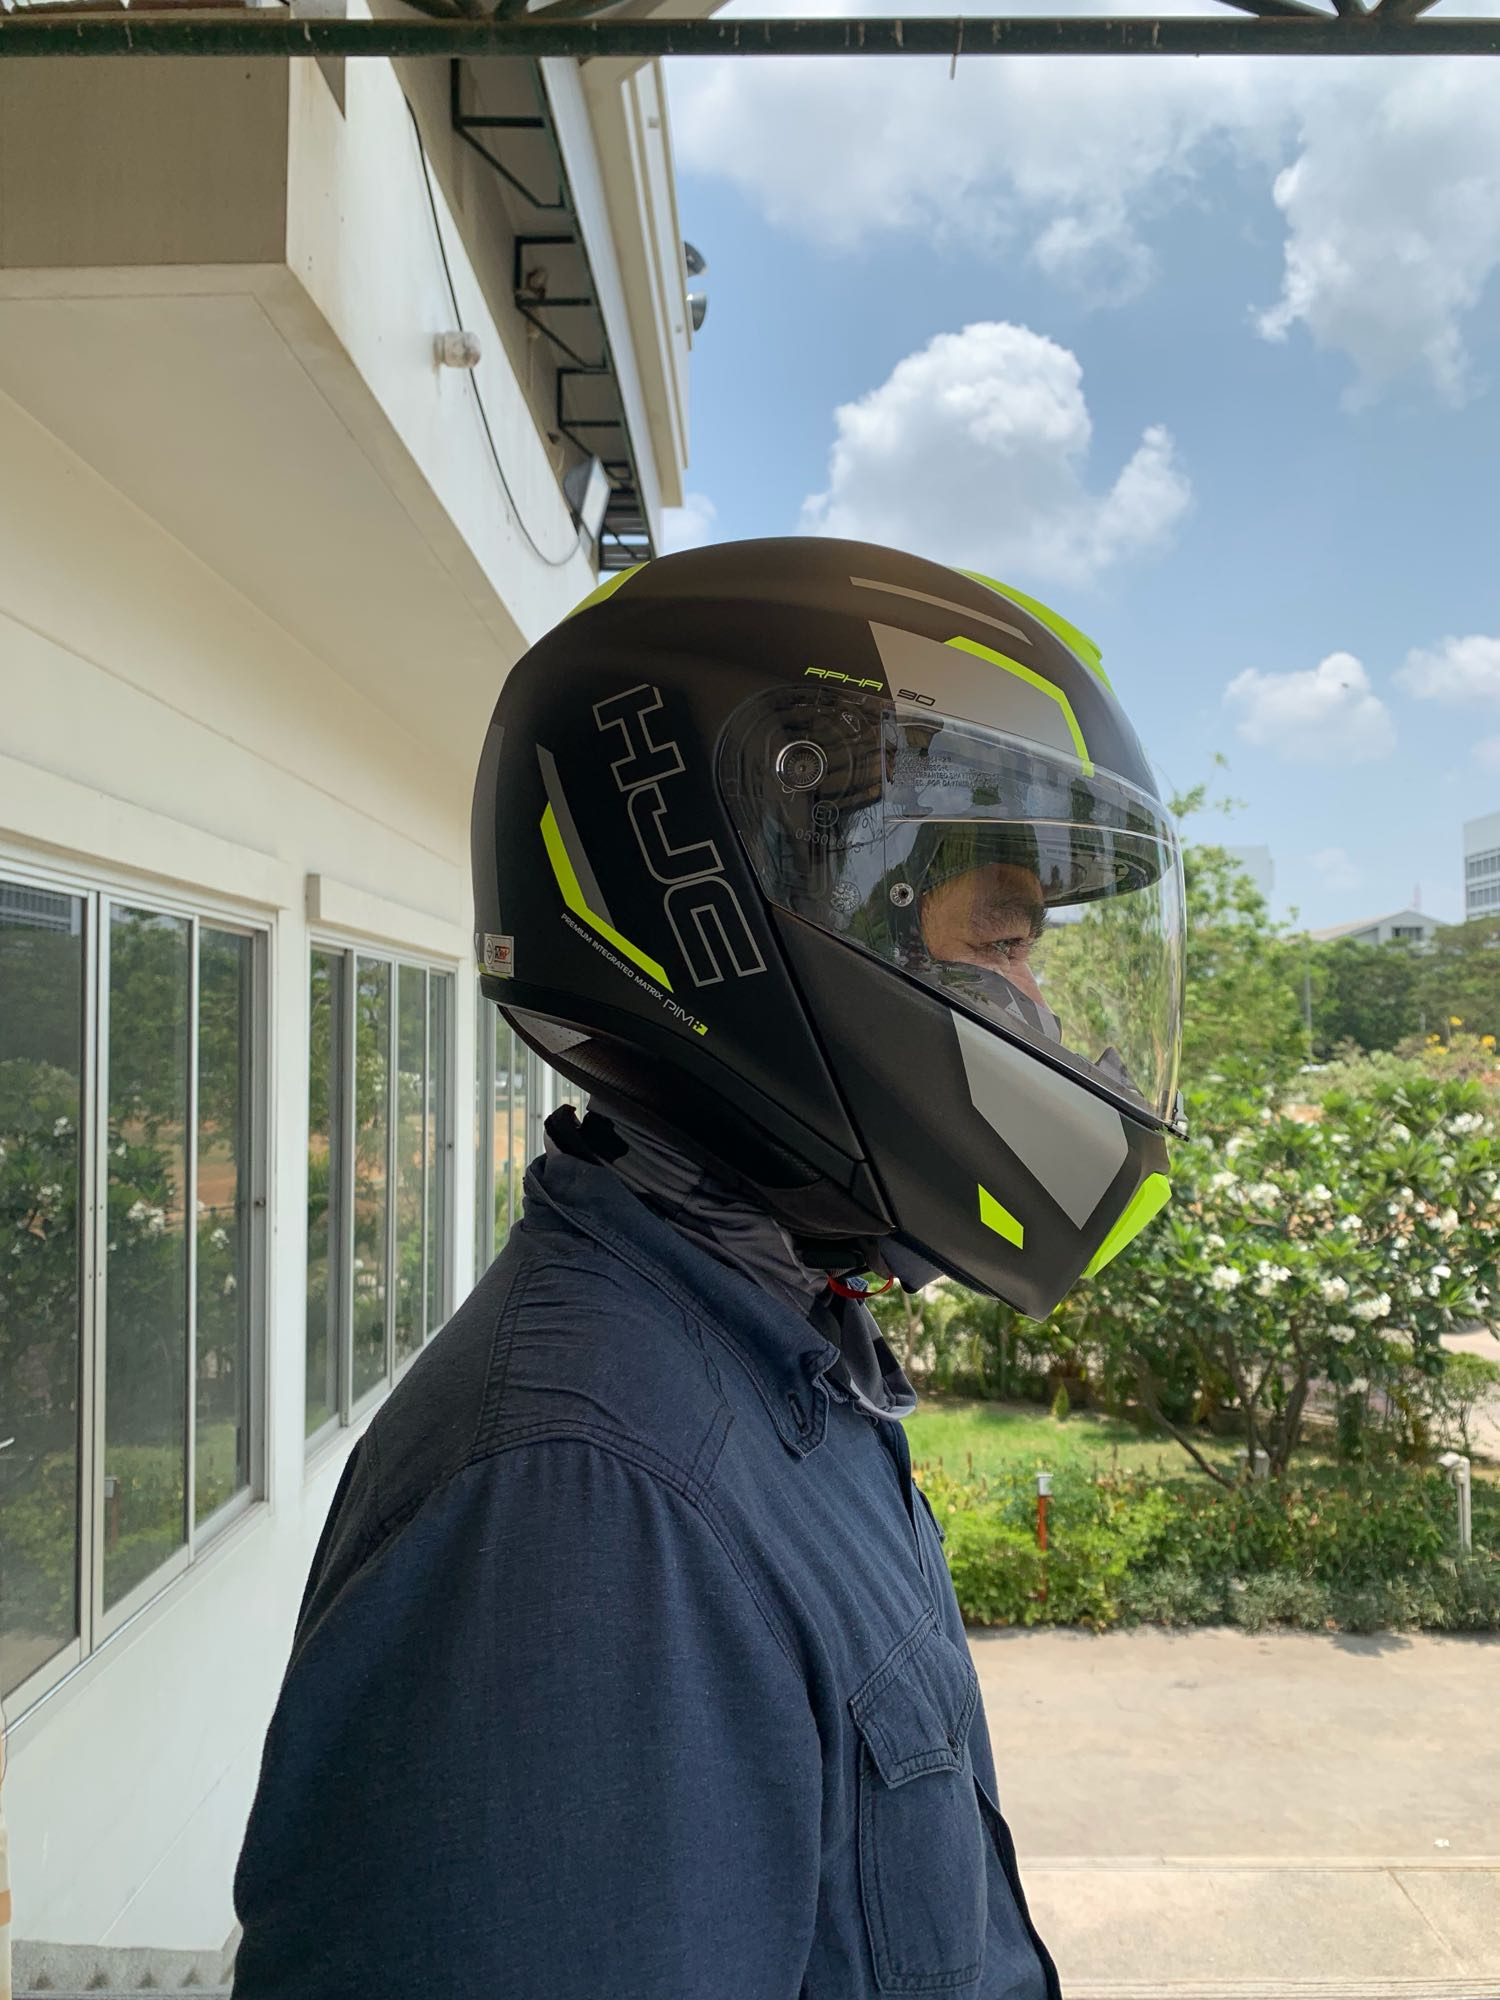helmet: (443, 501, 1240, 1384)
